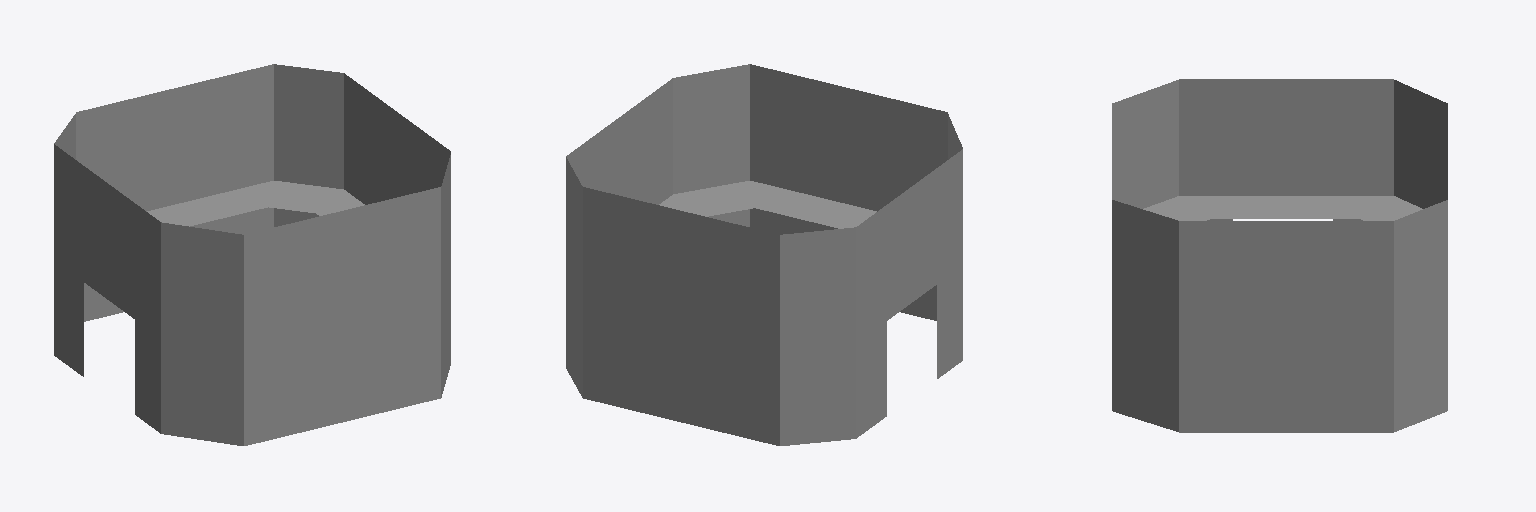
Rendered from arena.obj.
The picture shows the model from 3 angles: view 1: azimuth 30°, elevation 25°; view 2: azimuth 150°, elevation 25°; view 3: azimuth 270°, elevation 25°; orthographic projection.
Parts seen in each view (by area): view 1: Plane_Plane.001; view 2: Plane_Plane.001; view 3: Plane_Plane.001.
Boxes of the visible parts, <box> form: Plane_Plane.001: <box>54,64,450,445</box>; Plane_Plane.001: <box>566,64,962,445</box>; Plane_Plane.001: <box>1112,79,1447,432</box>.
Size of the model in its own units: 6.04 by 4.21 by 6.04.